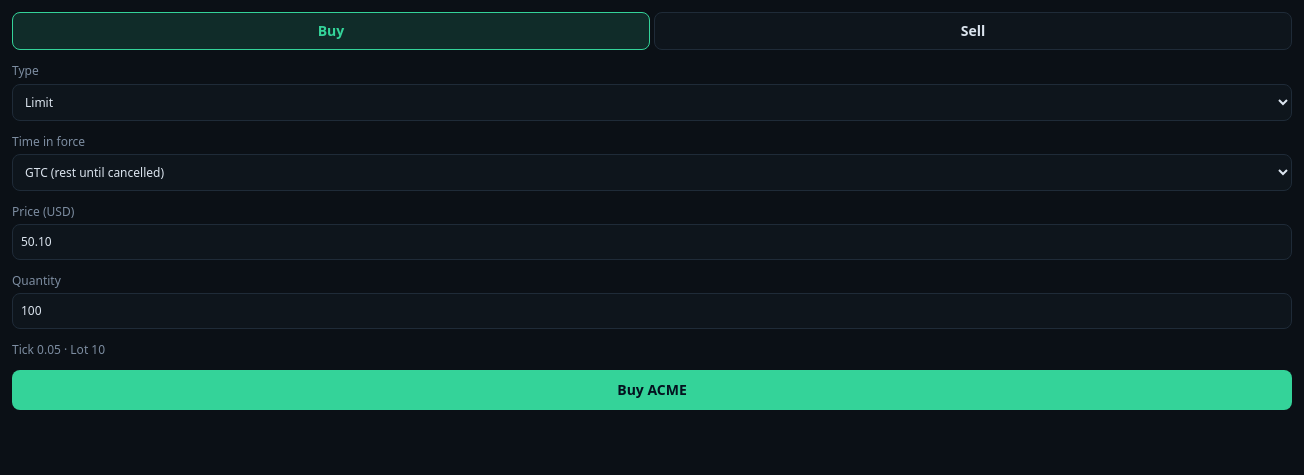
OrderTicket › blocks invalid tickets and surfaces server errors
The width and height of the screenshot is (1304, 475).
Check: the field labelled "Price (USD)" holds "50.10", box [12, 224, 1292, 260]
Replace the text in the field labelled "Quantity" with "15" at (652, 311), box [12, 293, 1292, 329]
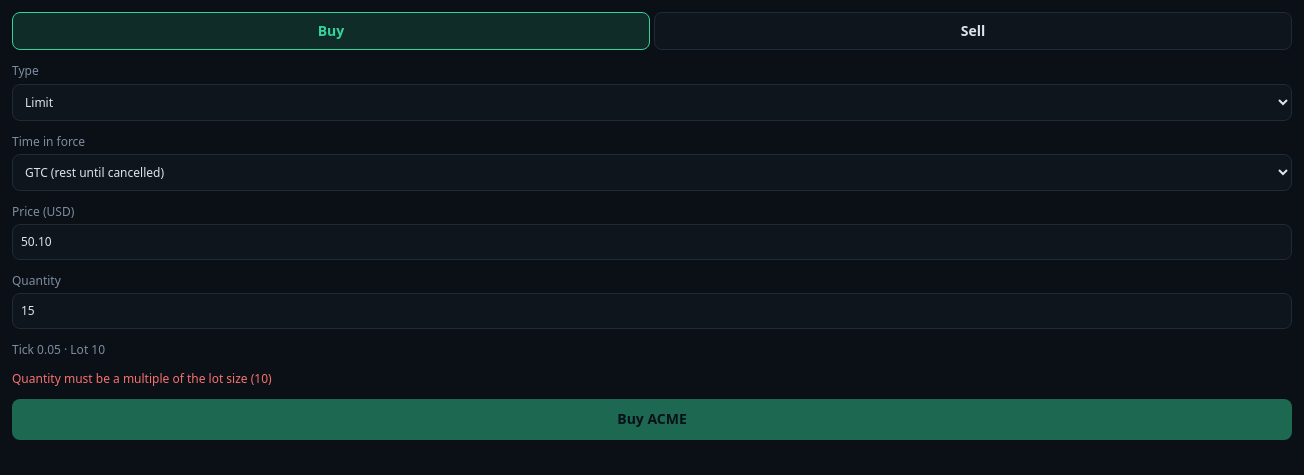
Check: the button "Buy ACME" is disabled, box [12, 399, 1292, 440]
Check: the text "Quantity must be a multiple of the lot size (10)" is shown, box [12, 370, 272, 387]
Replace the text in the field labelled "Quantity" with "10" at (652, 311), box [12, 293, 1292, 329]
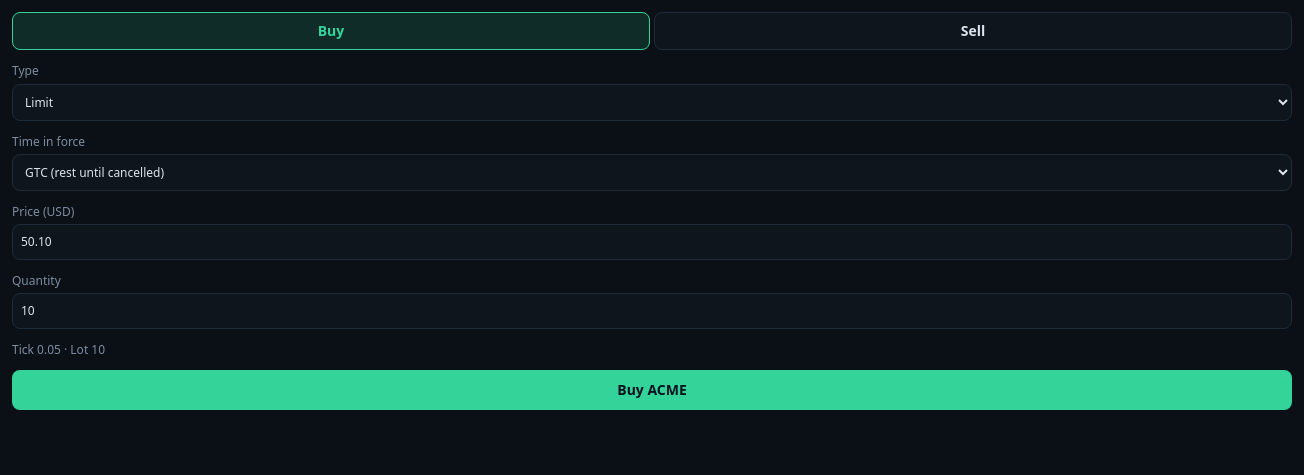
Click the button "Buy ACME" at (652, 390), box [12, 370, 1292, 410]
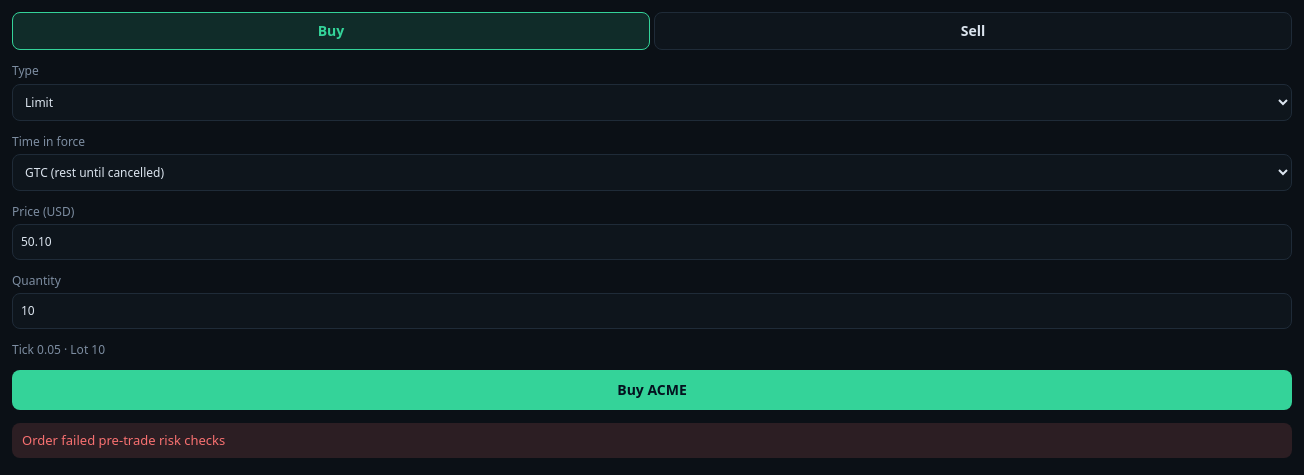
Check: the message shows "risk checks", box [22, 431, 225, 449]
